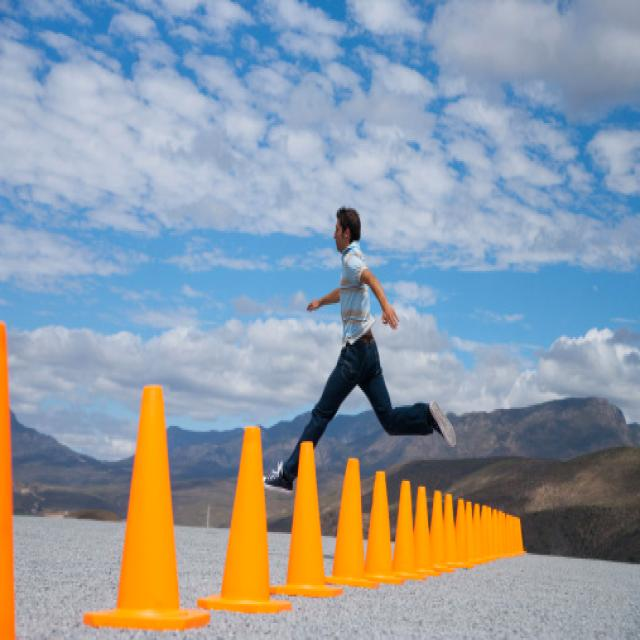cone: (84, 384, 210, 630), (198, 426, 292, 613), (268, 441, 343, 597), (325, 458, 379, 588), (365, 472, 405, 583), (392, 481, 427, 581), (414, 487, 442, 576), (430, 491, 454, 573), (443, 494, 464, 569), (455, 500, 474, 568), (472, 504, 488, 564), (472, 504, 482, 565)
